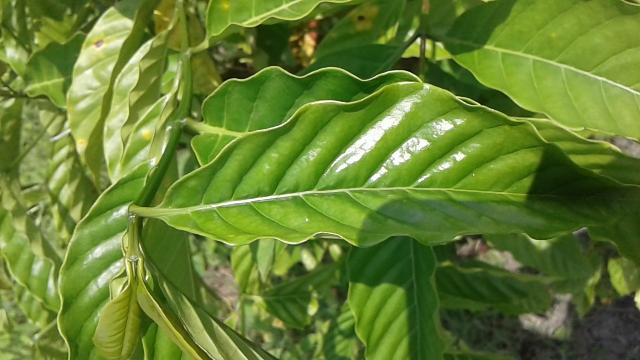healthy: (160, 82, 640, 246)
